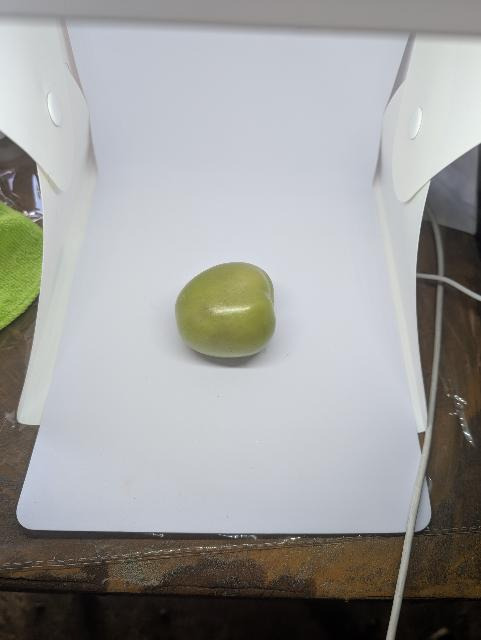green: (166, 250, 293, 369)
